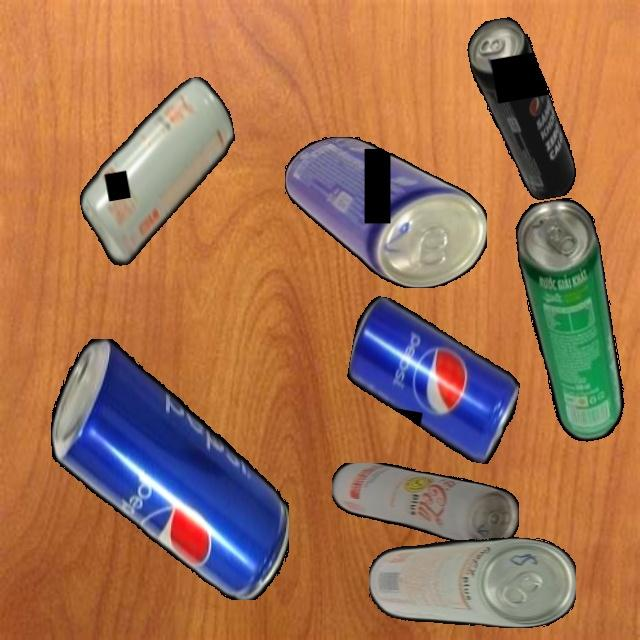debris: (50, 338, 289, 600), (63, 73, 253, 270), (337, 294, 530, 467), (510, 194, 633, 447), (284, 137, 487, 288), (464, 11, 579, 207), (368, 537, 576, 628), (331, 463, 519, 549)
